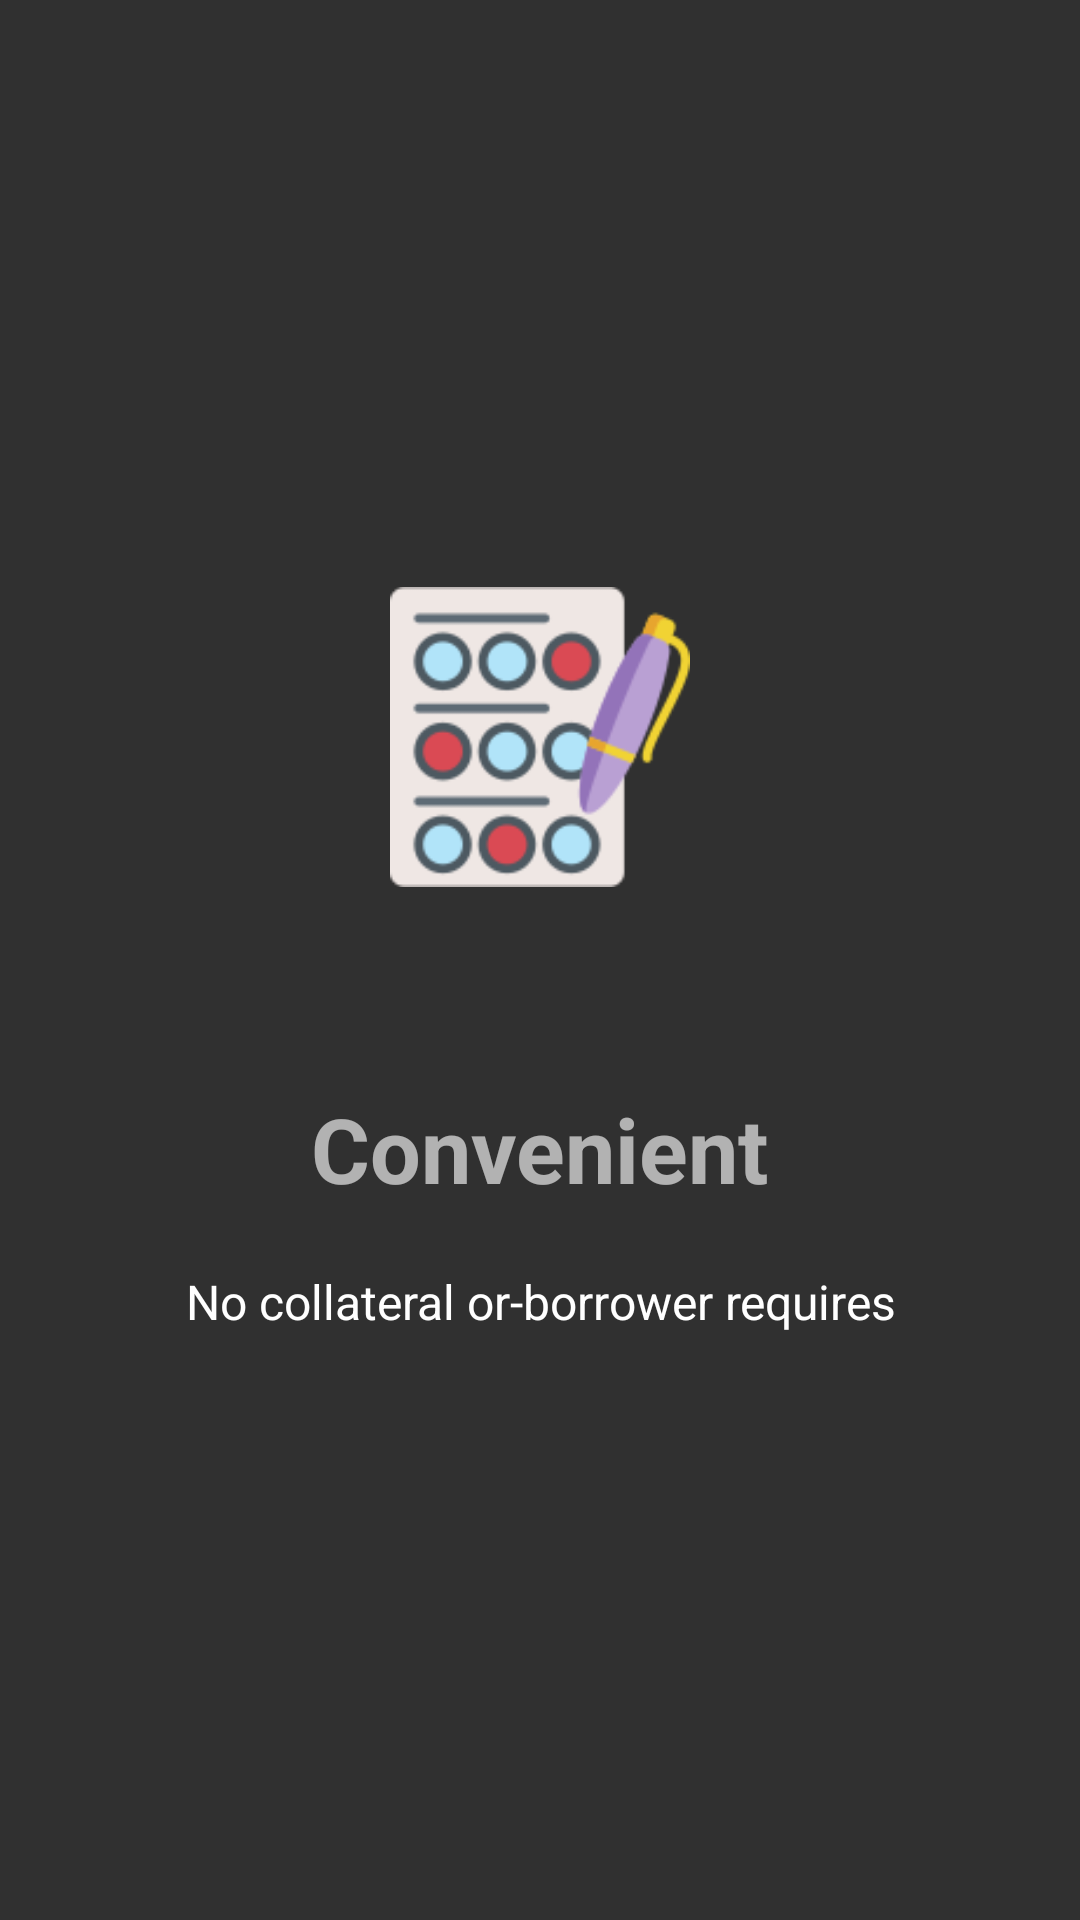

Screen size 1080*1920. Icon name, then its center in pixels as (x=x, y=y):
quiz: (x=540, y=737)
